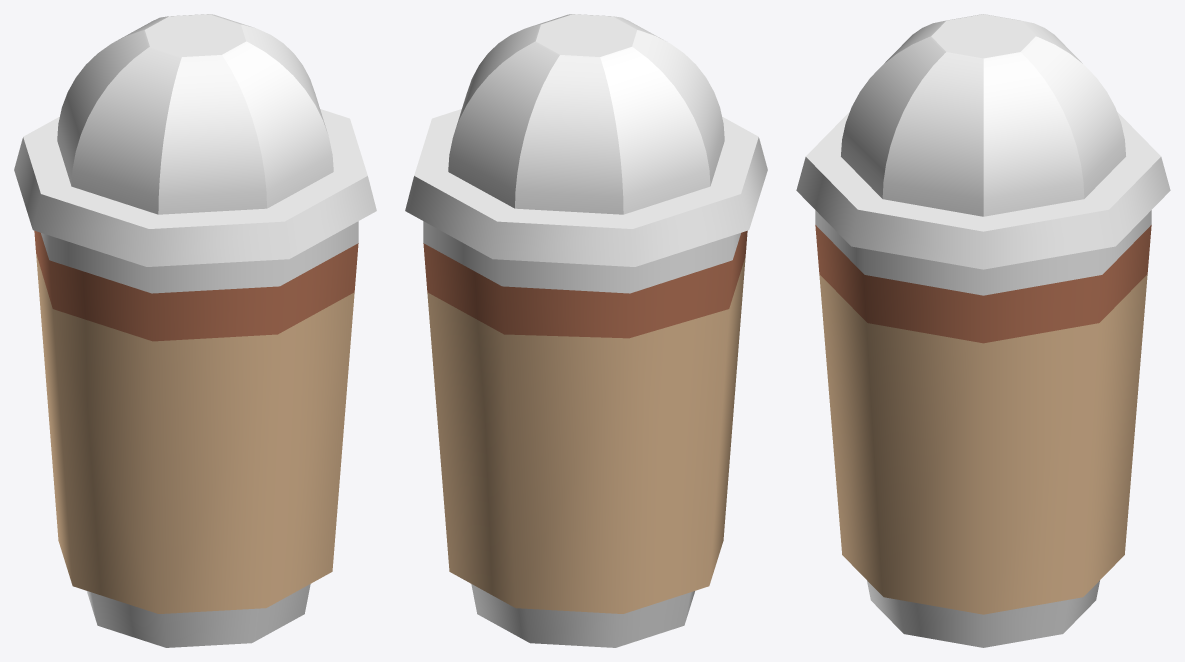
The model's file is frappe.GLB.
3 renders of one model, left to right at view 1: azimuth 30°, elevation 25°; view 2: azimuth 150°, elevation 25°; view 3: azimuth 270°, elevation 25°, orthographic.
Visible parts, largest first — view 1: frappe; view 2: frappe; view 3: frappe.
Part boxes in pixels (x1,y1,x2,y2): frappe: (14, 14, 376, 647); frappe: (405, 14, 767, 647); frappe: (796, 14, 1170, 647).
Size of the model in its own units: 0.2541 by 0.4224 by 0.2541.
